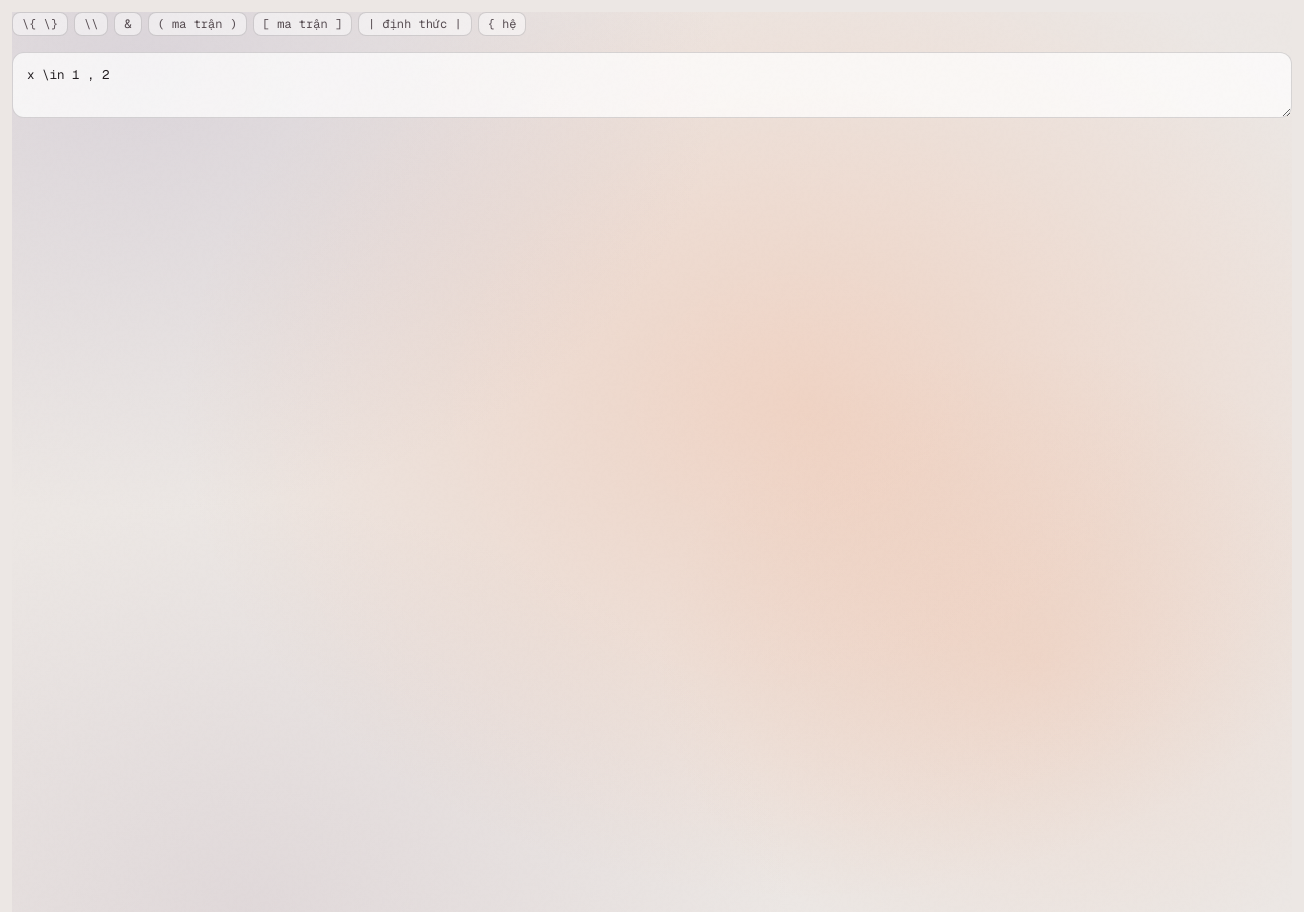
Test: wraps the selection in set braces
What coordinates should you click on to do the following:
click the button named "Ngoặc nhọn"
I would click on:
 (40, 24)
Its box is [12, 12, 68, 36].
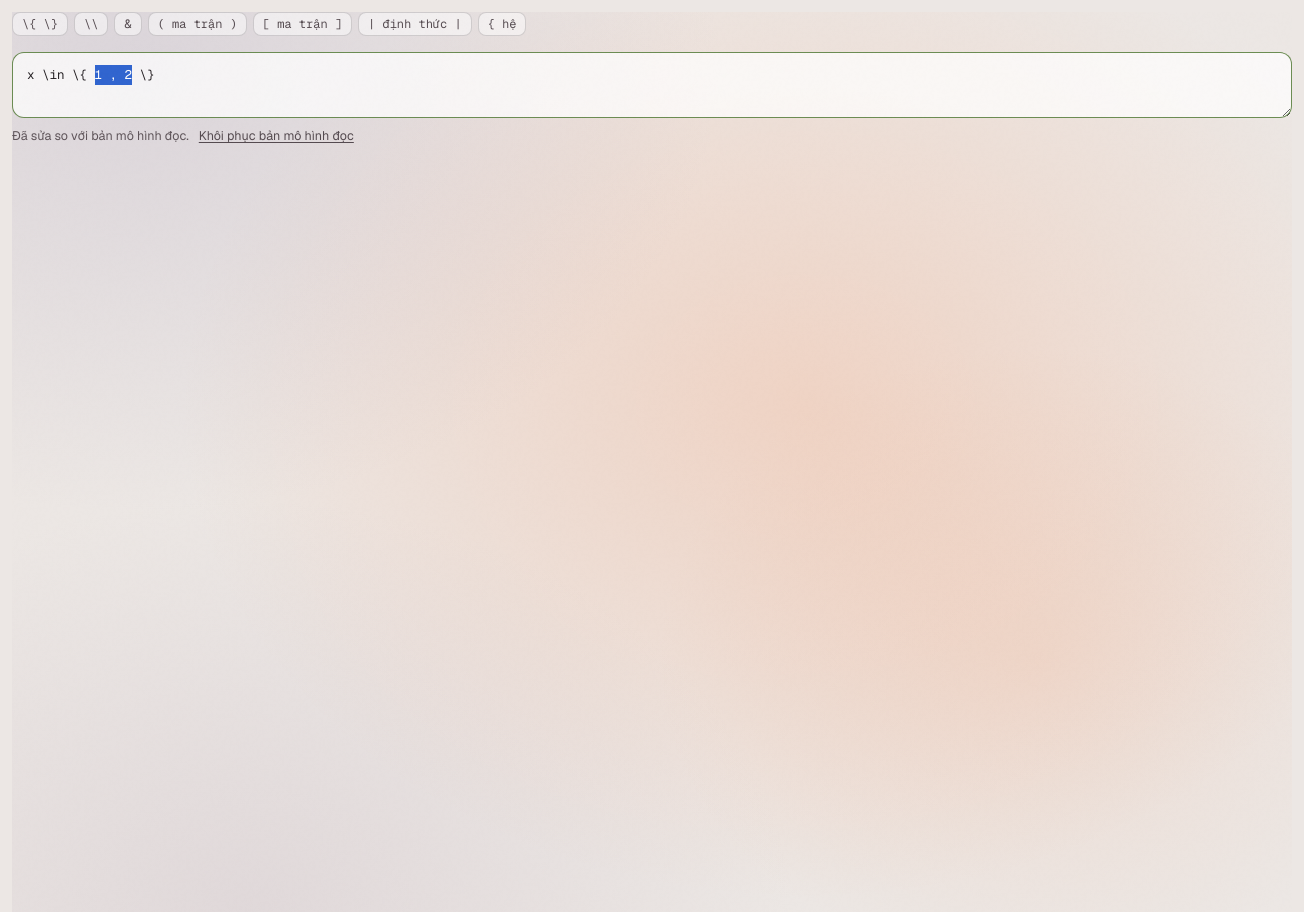
expect the text box named "LaTeX (sửa được)" holds "x \\in \\{ 1 , 2 \\}": met, box [12, 52, 1292, 118]
